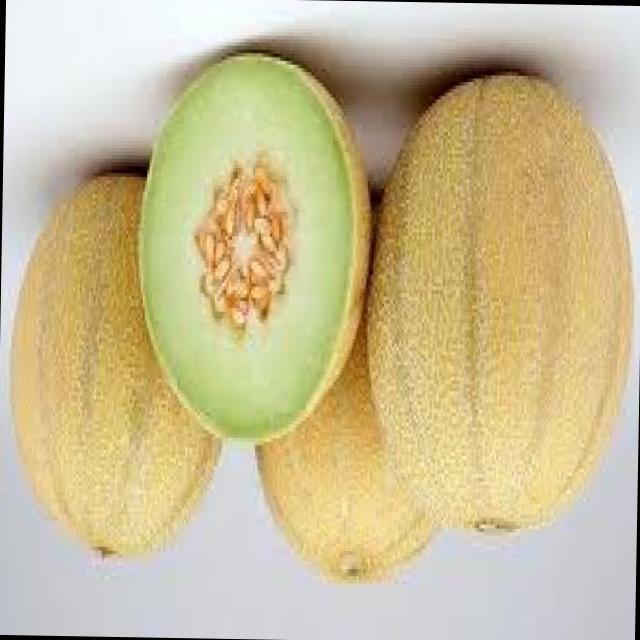Melon: (128, 47, 374, 454)
